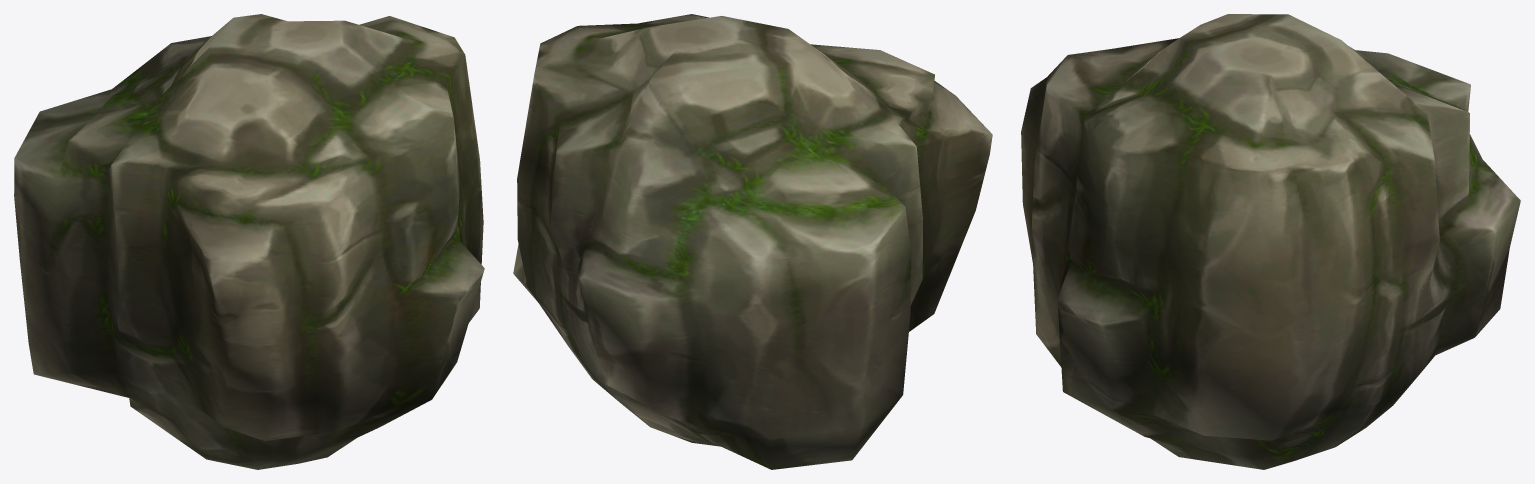
The model's file is RockFormation_4_2 (74).fbx.
The picture shows the model from 3 angles, left to right: view 1: azimuth 30°, elevation 25°; view 2: azimuth 150°, elevation 25°; view 3: azimuth 270°, elevation 25°; orthographic projection. The views are drawn at different scales.
Parts seen in each view (by area): view 1: RockFormation_4_2 (74); view 2: RockFormation_4_2 (74); view 3: RockFormation_4_2 (74).
Boxes of the visible parts, box(x1,y1,x2,y2) form: RockFormation_4_2 (74): box(14, 14, 484, 469); RockFormation_4_2 (74): box(513, 14, 992, 469); RockFormation_4_2 (74): box(1021, 14, 1520, 469).
Bounding box in the file's own units: 527 × 489 × 526.
